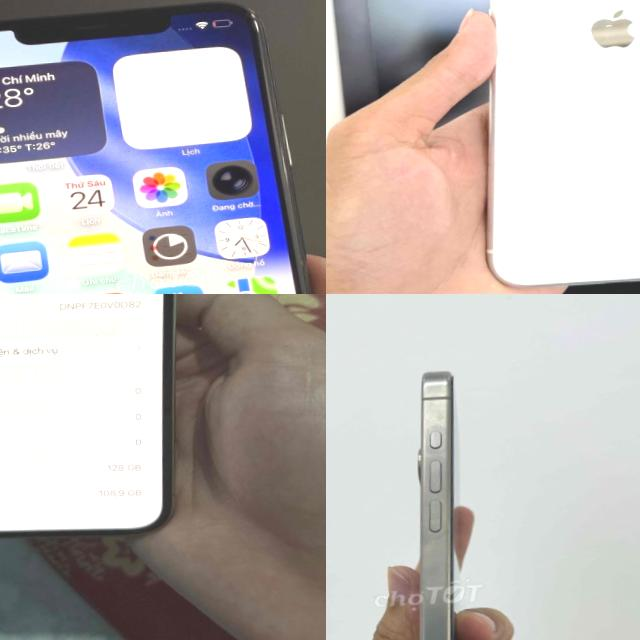gen_11: (0, 0, 326, 294)
gen_12_13: (0, 294, 197, 571)
gen_15: (393, 361, 484, 640)
gen_x_xs: (468, 0, 640, 291)
